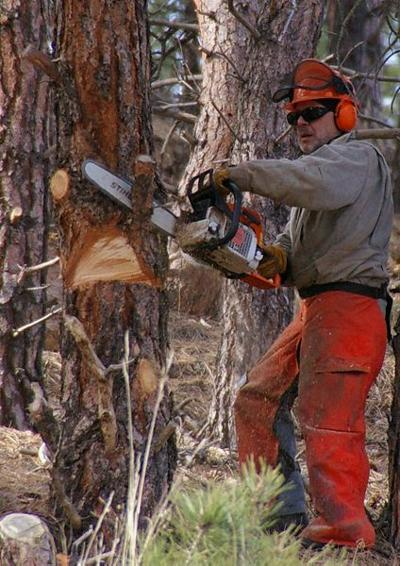person: (213, 58, 395, 552)
